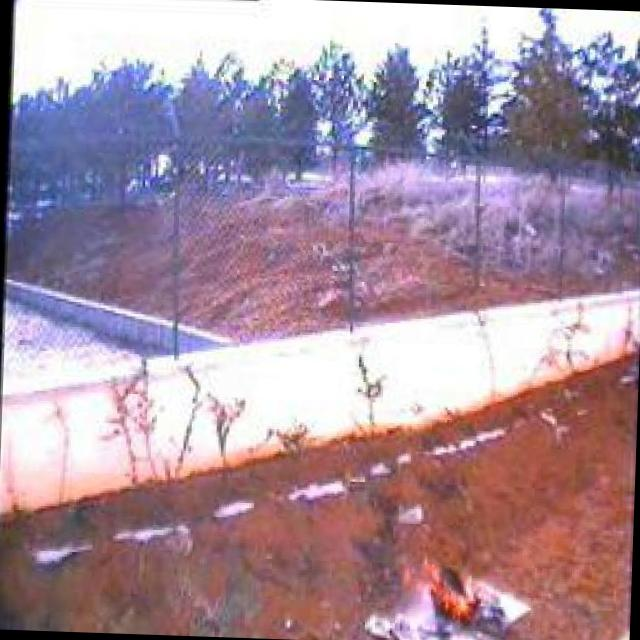Fire: (394, 546, 505, 634)
